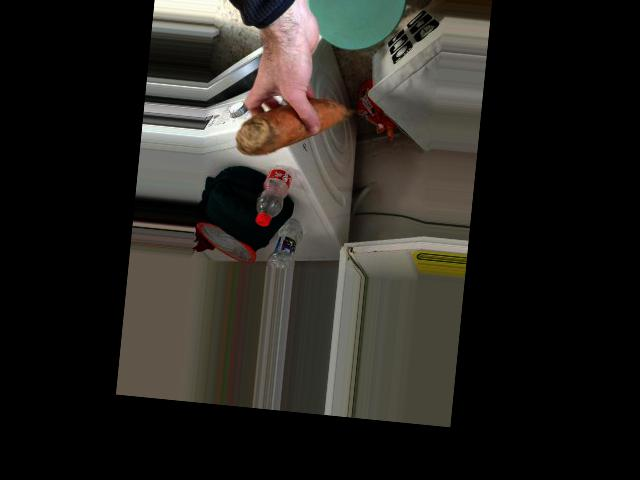sweet_potato: (241, 82, 346, 168)
